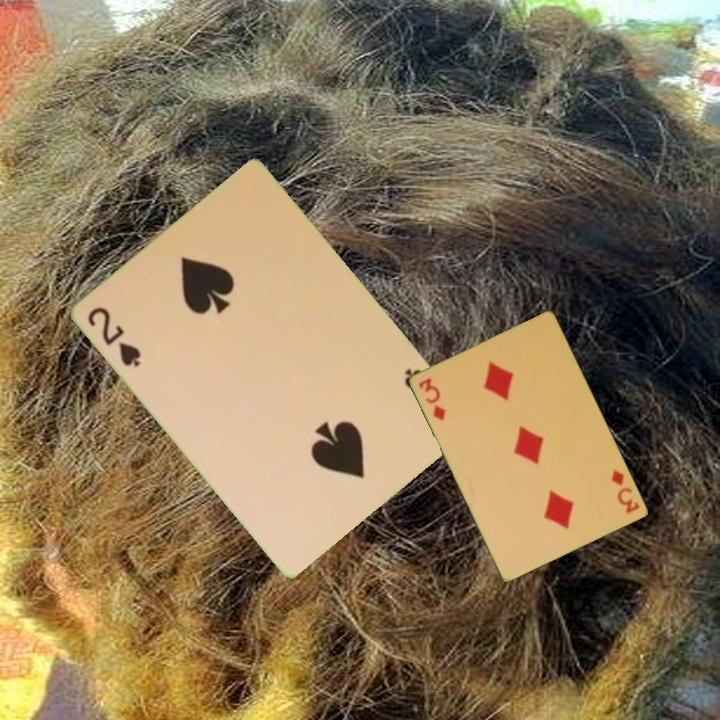2s: (84, 303, 145, 370)
3d: (608, 466, 643, 516), (415, 375, 449, 423)
